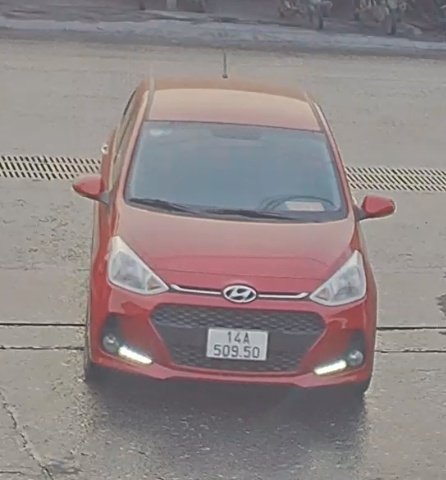vehicle plate: (202, 319, 269, 362)
